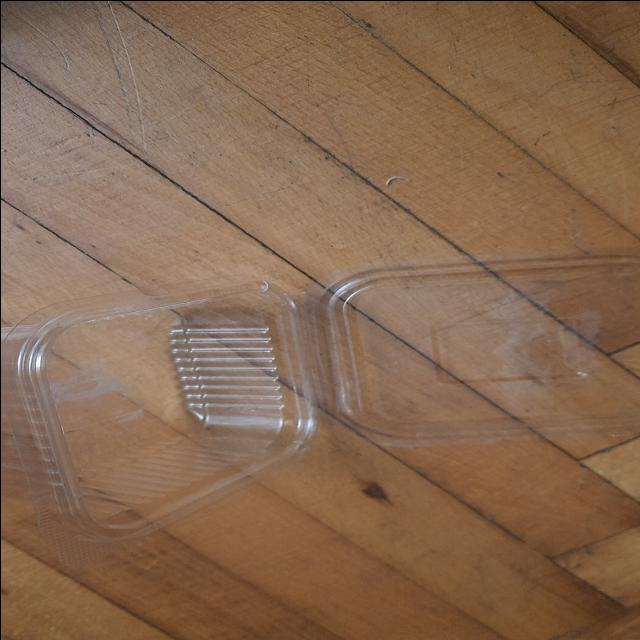plastic: (0, 266, 640, 526)
